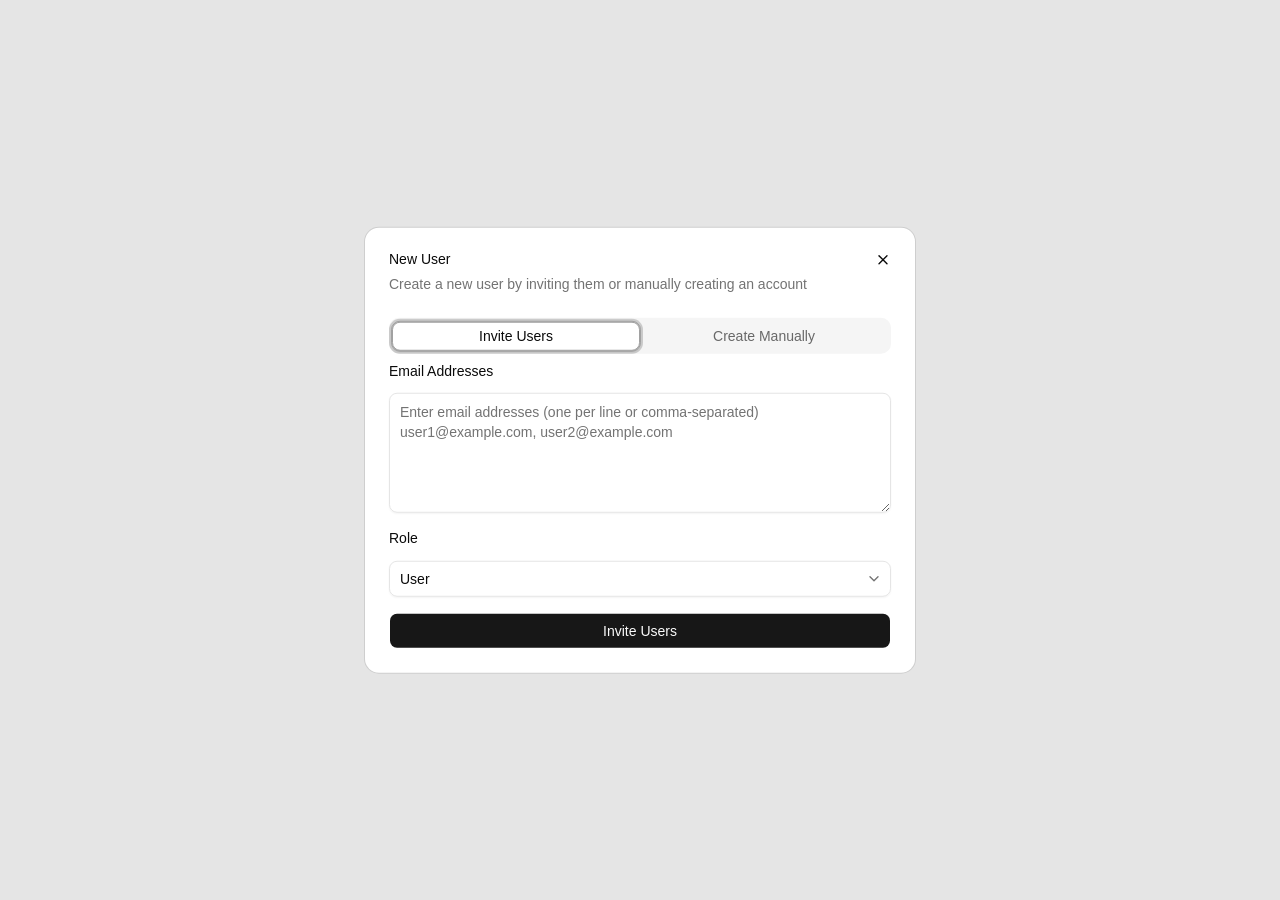
Test: CreateUserDialog › Create tab › should show validation errors for empty fields
What coordinates should you click on to do the following:
click the tab "Create Manually"
I would click on:
 (764, 336)
Its box is top-left (640, 321), bottom-right (888, 350).
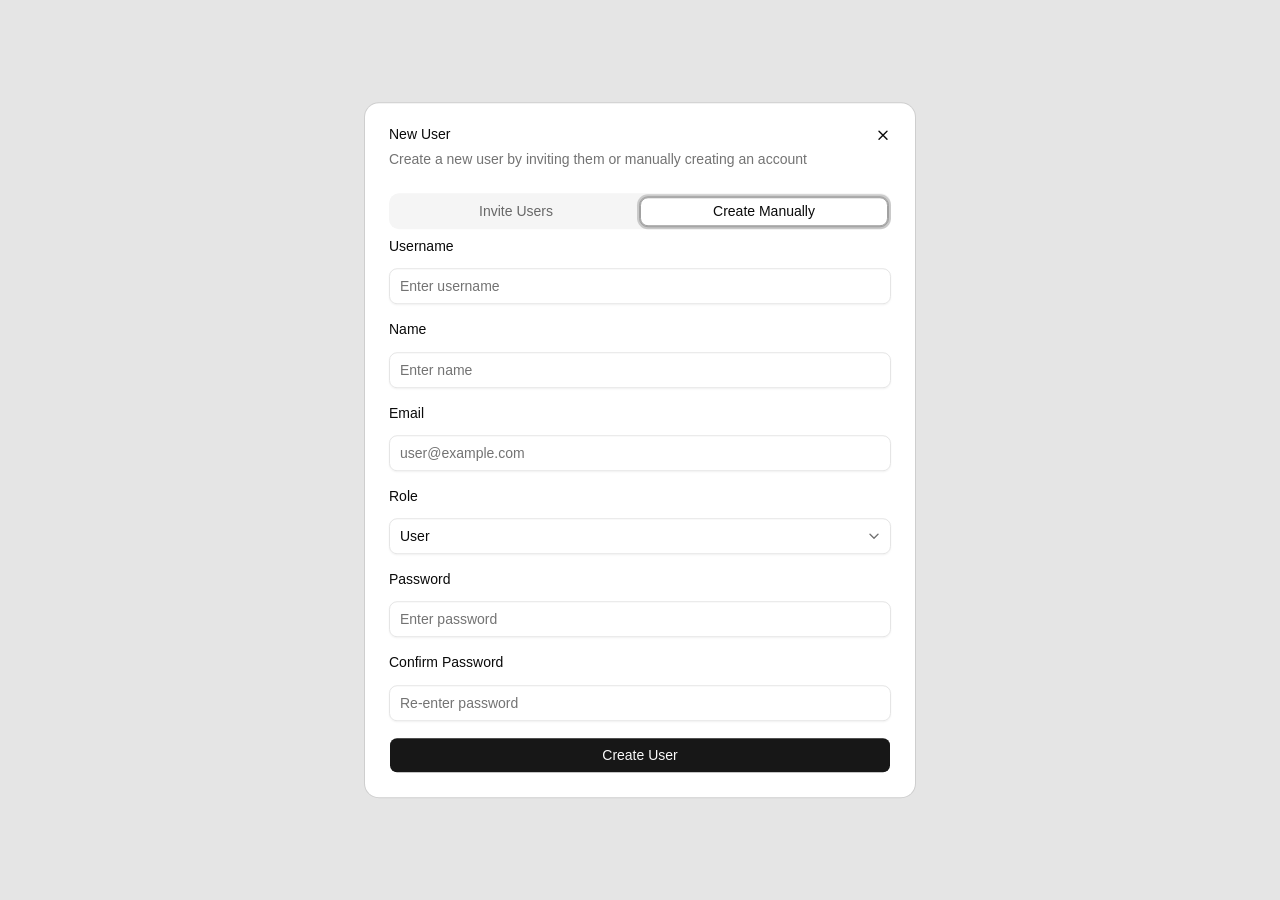
Now the field labelled "Username" is shown, box top-left (389, 268), bottom-right (891, 304)
What coordinates should you click on to do the following:
click the button "Create User"
I would click on:
 (640, 755)
Its box is top-left (389, 737), bottom-right (891, 773).
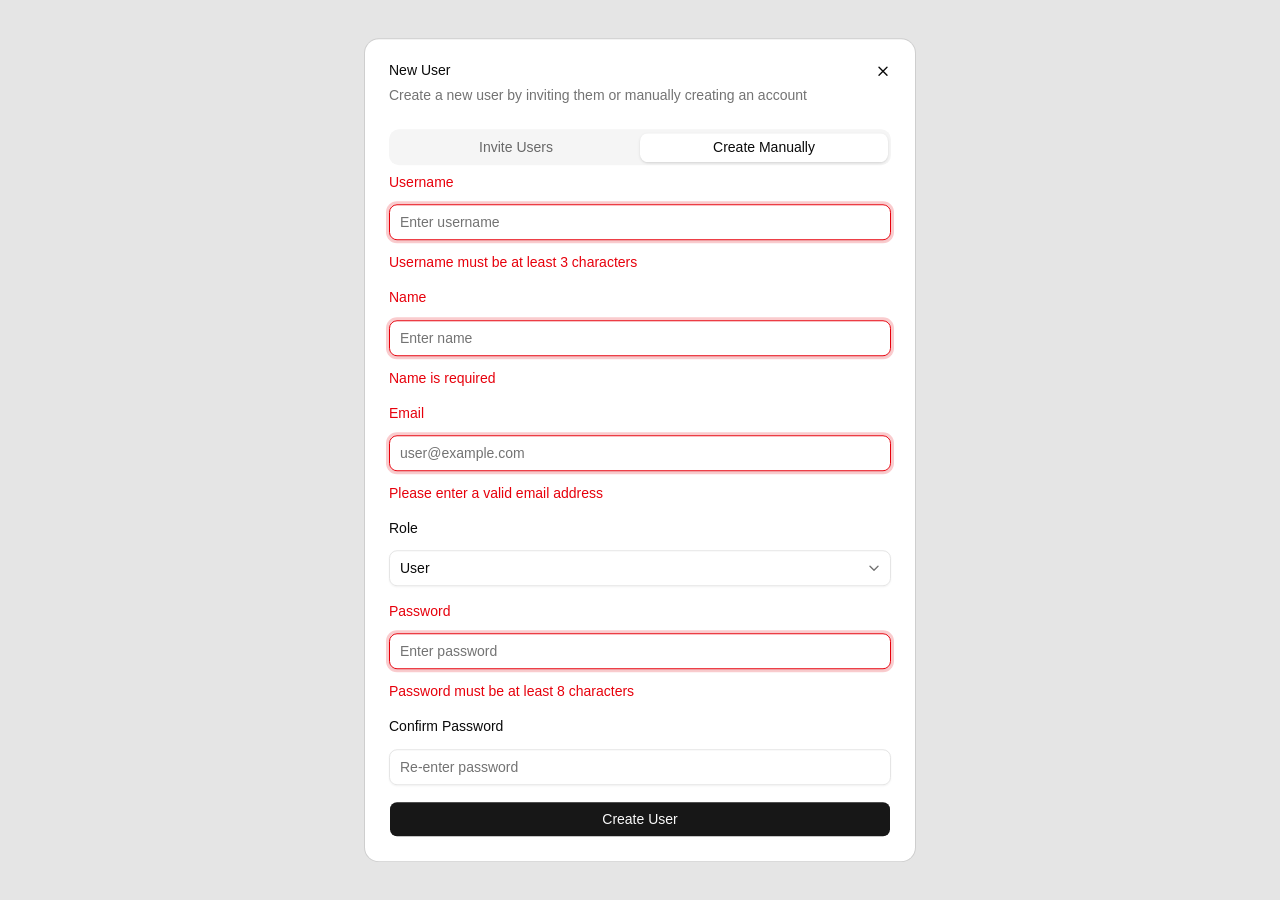
Now the message "Username must be at least 3 characters" is shown, box top-left (389, 254), bottom-right (637, 270)
